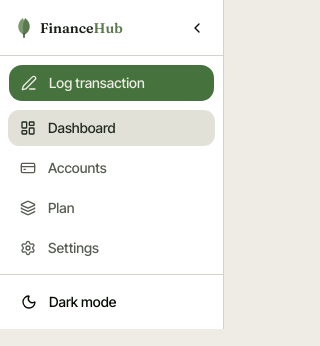
Scenario: Sidebar › collapses to icon-only when toggle is clicked
Expected: the text "Dashboard" is shown, [48,118,116,138]
Click the button named "collapse". click: (197, 28)
box: [183,14,211,42]
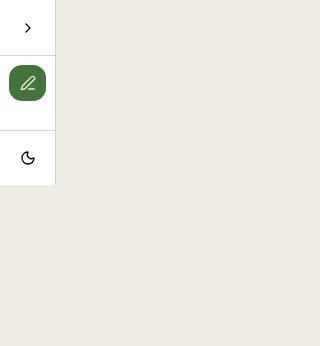
Expected: the button named "expand" is shown, [14,14,42,42]
Expected: the link "Dashboard" is gone
